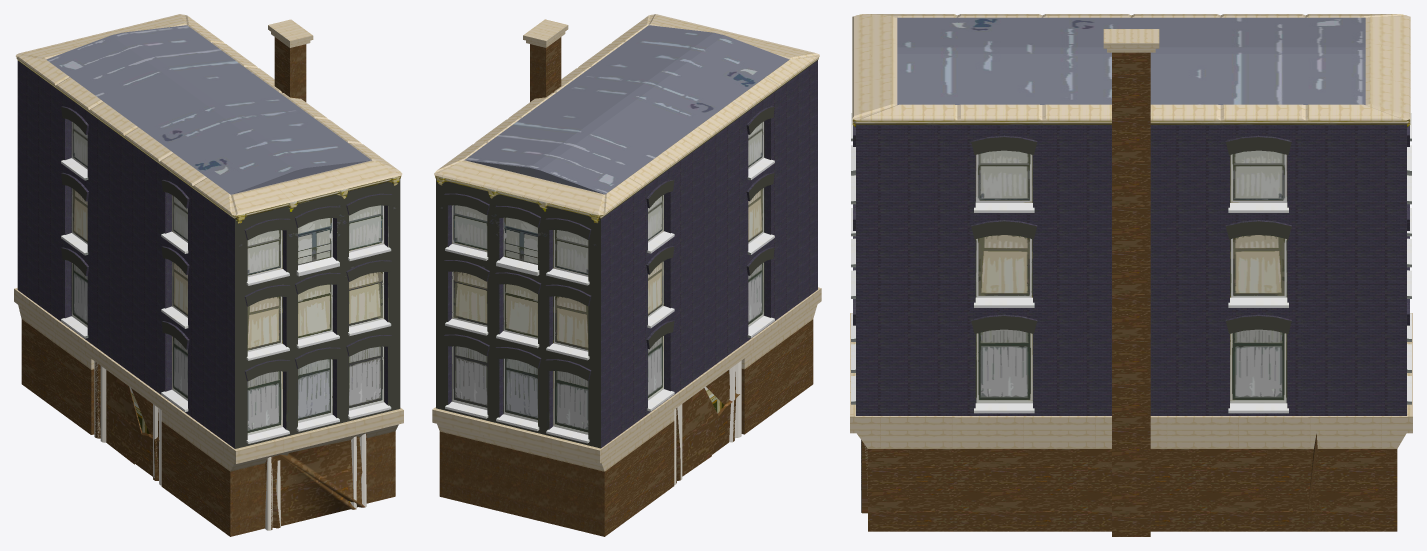
Rendered from A04_Destr.FBX.
3 views of the same model, side by side, from view 1: azimuth 30°, elevation 25°; view 2: azimuth 150°, elevation 25°; view 3: azimuth 270°, elevation 25° (orthographic). The views are drawn at different scales.
Parts seen in each view (by area): view 1: K_Building_A04_00_Part_5, K_Building_A04_00_Part_15, K_Building_A04_00_Part_11, K_Building_A04_00_Part_6, K_Building_A04_00_Part_12, K_Building_A04_00_Part_9, K_Building_A04_00_Part_14, K_Building_A04_00_Part_4, K_Building_A04_00_Part_3, K_Building_A04_00_Part_1, K_Building_A04_00_Part_7, K_Building_A04_00_Part_13; view 2: K_Building_A04_00_Part_6, K_Building_A04_00_Part_1, K_Building_A04_00_Part_12, K_Building_A04_00_Part_5, K_Building_A04_00_Part_9, K_Building_A04_00_Part_14, K_Building_A04_00_Part_4, K_Building_A04_00_Part_15, K_Building_A04_00_Part_3, K_Building_A04_00_Part_11, K_Building_A04_00_Part_13, K_Building_A04_00_Part_7; view 3: K_Building_A04_00_Part_14, K_Building_A04_00_Part_5, K_Building_A04_00_Part_7, K_Building_A04_00_Part_10, K_Building_A04_00_Part_13, K_Building_A04_00_Part_8, K_Building_A04_00_Part_6, K_Building_A04_00_Part_11, K_Building_A04_00_Part_1, K_Building_A04_00_Part_15, K_Building_A04_00_Part_3.
Boxes of the visible parts, <box> form: K_Building_A04_00_Part_5: <box>119,119,402,308</box>; K_Building_A04_00_Part_15: <box>172,281,400,473</box>; K_Building_A04_00_Part_11: <box>171,351,403,536</box>; K_Building_A04_00_Part_6: <box>15,14,215,206</box>; K_Building_A04_00_Part_12: <box>27,201,142,464</box>; K_Building_A04_00_Part_9: <box>109,120,280,346</box>; K_Building_A04_00_Part_14: <box>119,19,373,151</box>; K_Building_A04_00_Part_4: <box>82,250,185,445</box>; K_Building_A04_00_Part_3: <box>59,122,135,256</box>; K_Building_A04_00_Part_1: <box>14,193,34,393</box>; K_Building_A04_00_Part_7: <box>135,432,178,498</box>; K_Building_A04_00_Part_13: <box>189,37,262,77</box>; K_Building_A04_00_Part_6: <box>434,121,695,350</box>; K_Building_A04_00_Part_1: <box>432,312,617,536</box>; K_Building_A04_00_Part_12: <box>611,305,718,526</box>; K_Building_A04_00_Part_5: <box>623,14,819,139</box>; K_Building_A04_00_Part_9: <box>690,124,817,262</box>; K_Building_A04_00_Part_14: <box>516,19,689,139</box>; K_Building_A04_00_Part_4: <box>671,236,763,413</box>; K_Building_A04_00_Part_15: <box>751,176,821,373</box>; K_Building_A04_00_Part_3: <box>642,144,718,311</box>; K_Building_A04_00_Part_11: <box>754,321,813,421</box>; K_Building_A04_00_Part_13: <box>436,113,587,312</box>; K_Building_A04_00_Part_7: <box>712,380,761,454</box>; K_Building_A04_00_Part_14: <box>927,15,1206,269</box>; K_Building_A04_00_Part_5: <box>851,14,1163,291</box>; K_Building_A04_00_Part_7: <box>958,328,1207,536</box>; K_Building_A04_00_Part_10: <box>1016,114,1267,372</box>; K_Building_A04_00_Part_13: <box>1204,57,1406,331</box>; K_Building_A04_00_Part_8: <box>1173,325,1322,531</box>; K_Building_A04_00_Part_6: <box>1166,14,1411,236</box>; K_Building_A04_00_Part_11: <box>850,342,1010,531</box>; K_Building_A04_00_Part_1: <box>1310,208,1412,531</box>; K_Building_A04_00_Part_15: <box>850,208,1033,356</box>; K_Building_A04_00_Part_3: <box>1017,290,1111,352</box>.
Bounding box in the file's own units: 683 × 1426 × 1467.
